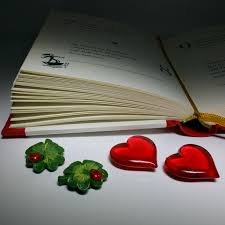Open Book: (9, 9, 225, 135)
